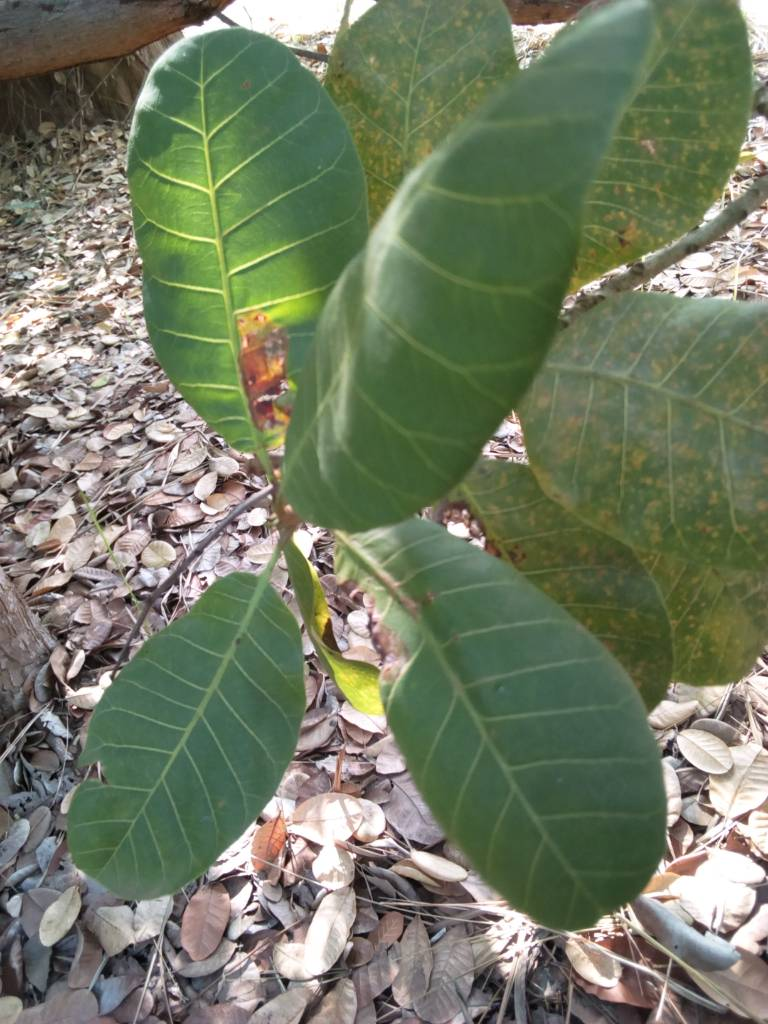Alternariose: (483, 450, 758, 686), (532, 296, 768, 564), (575, 7, 752, 250), (325, 3, 516, 180)
